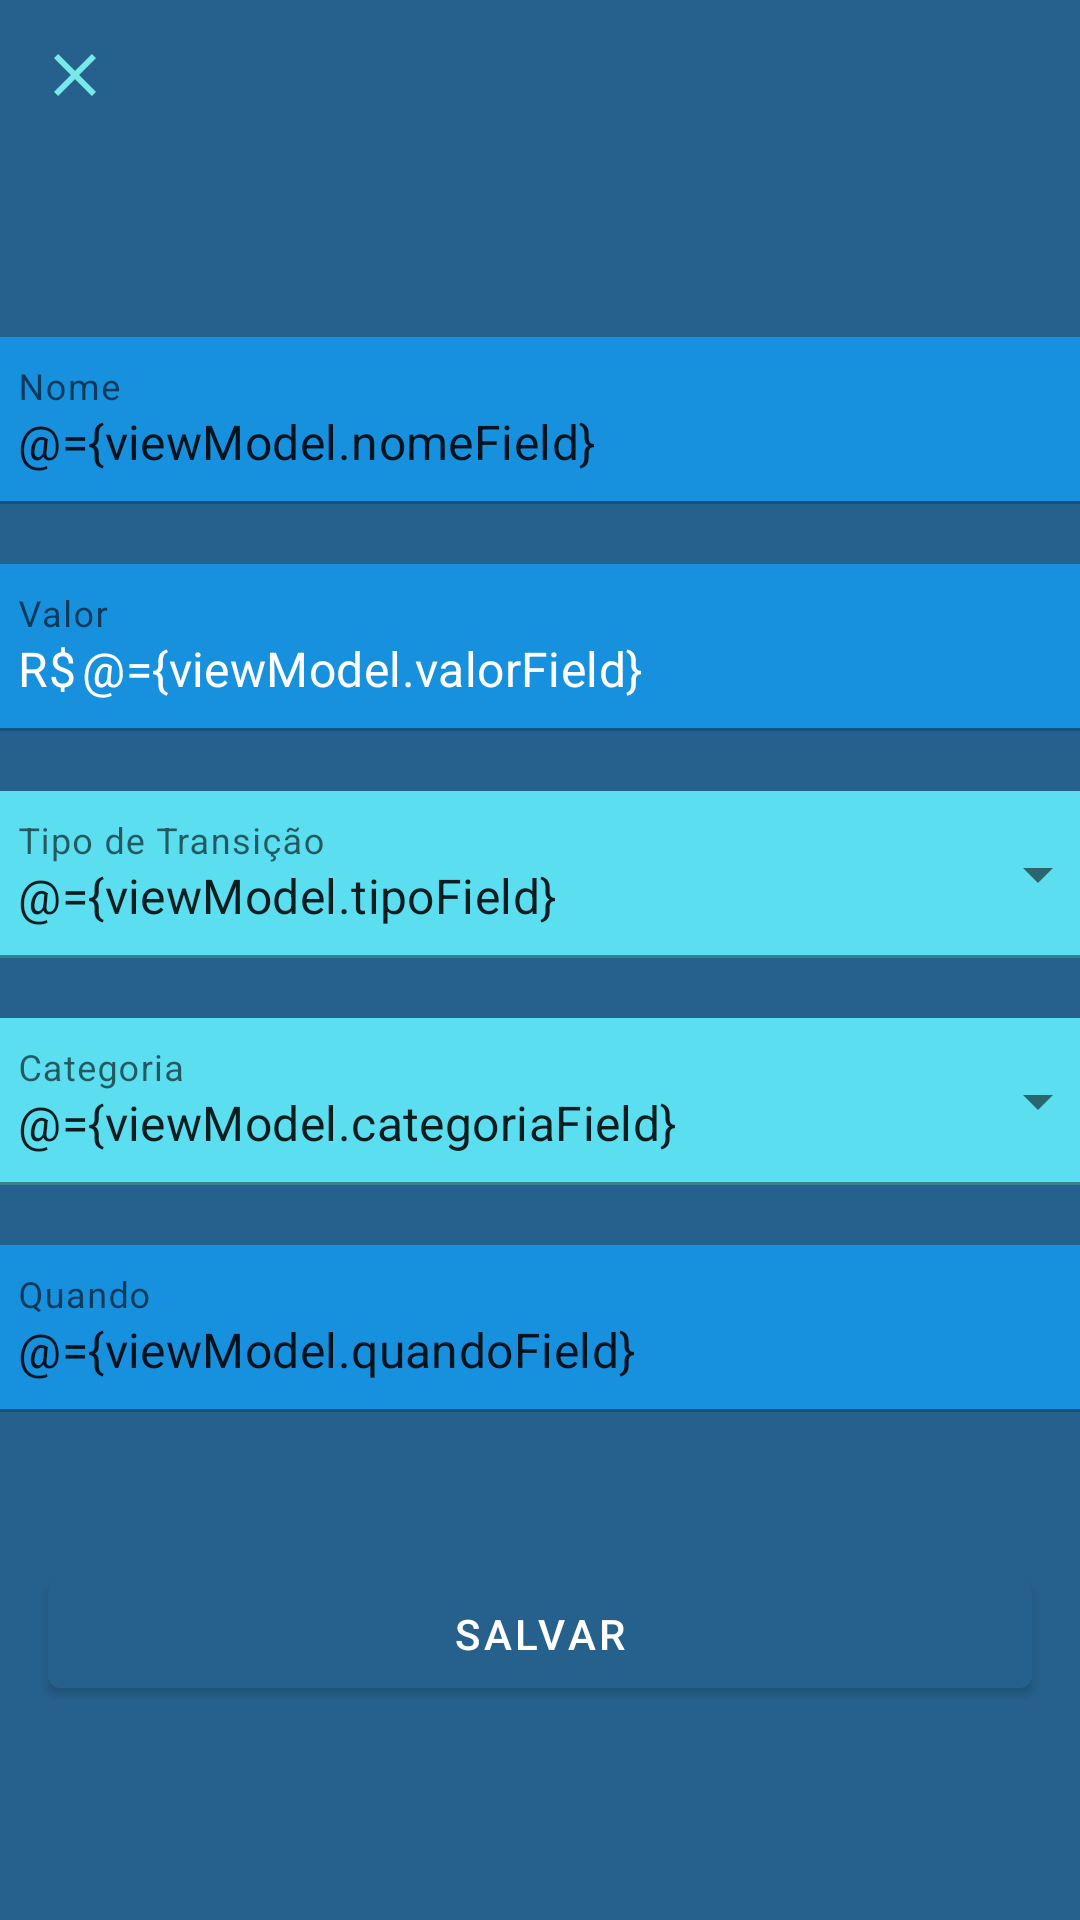

Locate icon controls on the screen. Image size 1080px x 1920px, boxes as (x1, y1, x2, y2).
close: (54, 54, 96, 96)
